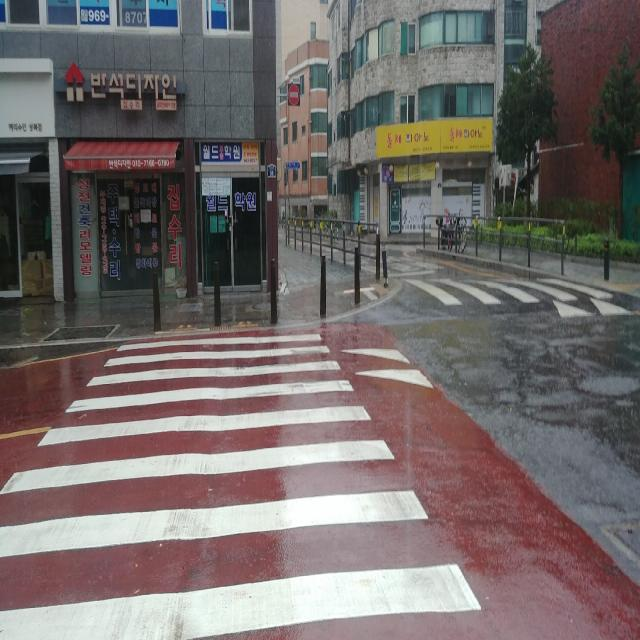횡단보도: (1, 329, 485, 640), (407, 278, 590, 321)
